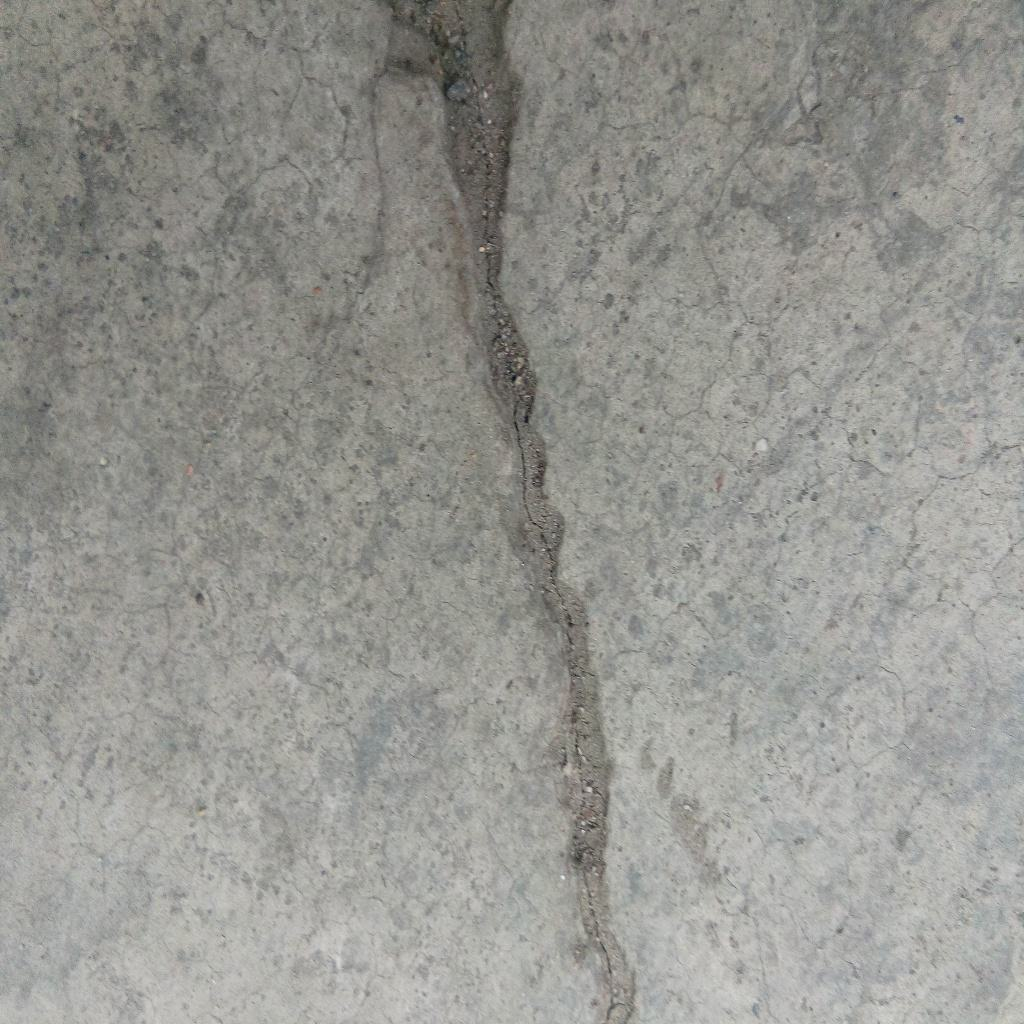Crack: (382, 1, 636, 1024)
